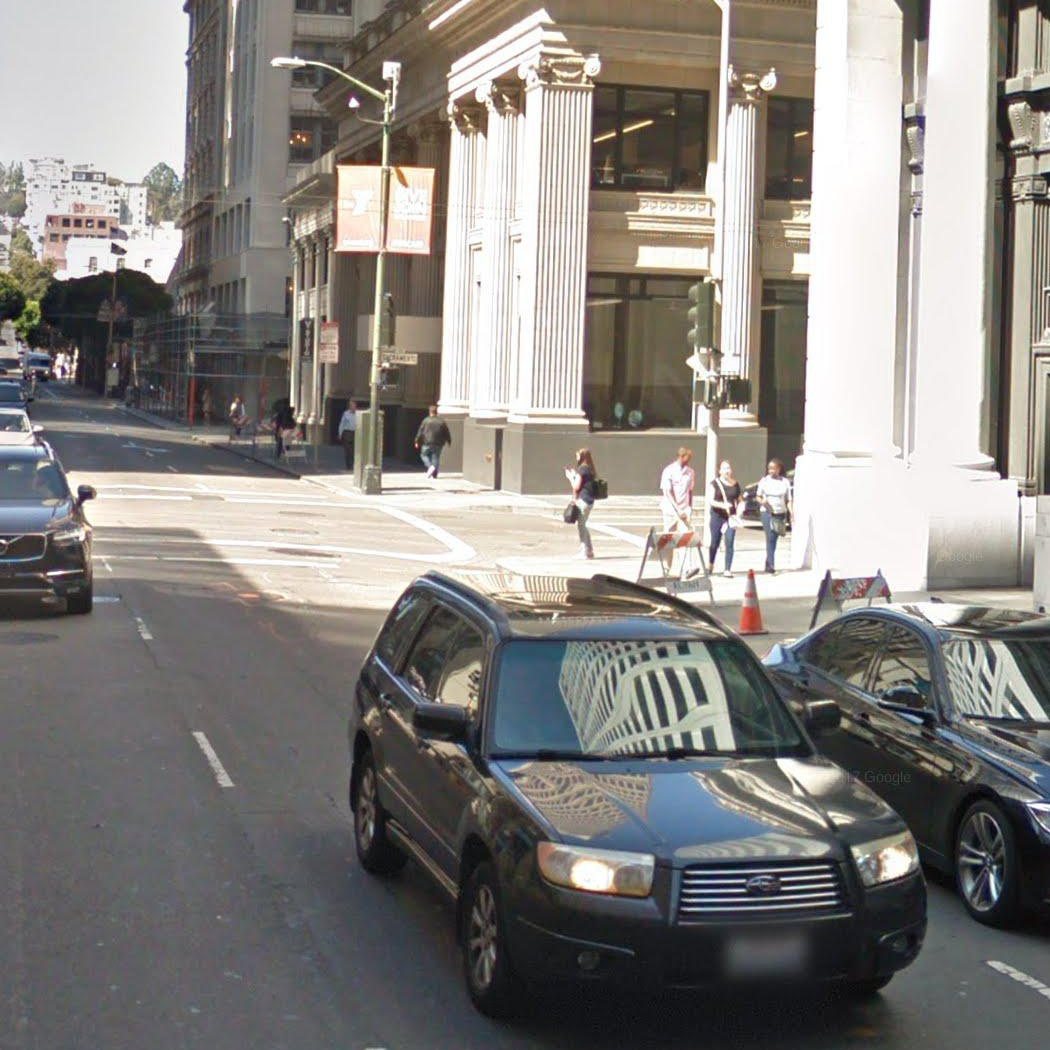No Parking: (317, 342, 339, 364)
